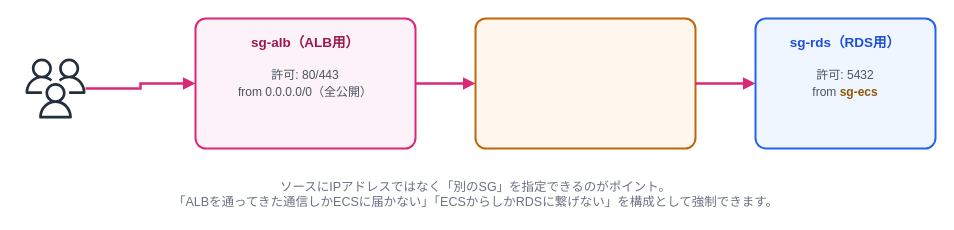
Some shapes in this 954 by 230 pixel diagram are drawn without their labels. Each missing label, with the box of its shape:
sg-ecs（ECS用） 許可: 3000（アプリのポート） from sg-alb: (474, 17, 696, 149)
ユーザー どこからでも: (25, 58, 85, 118)
